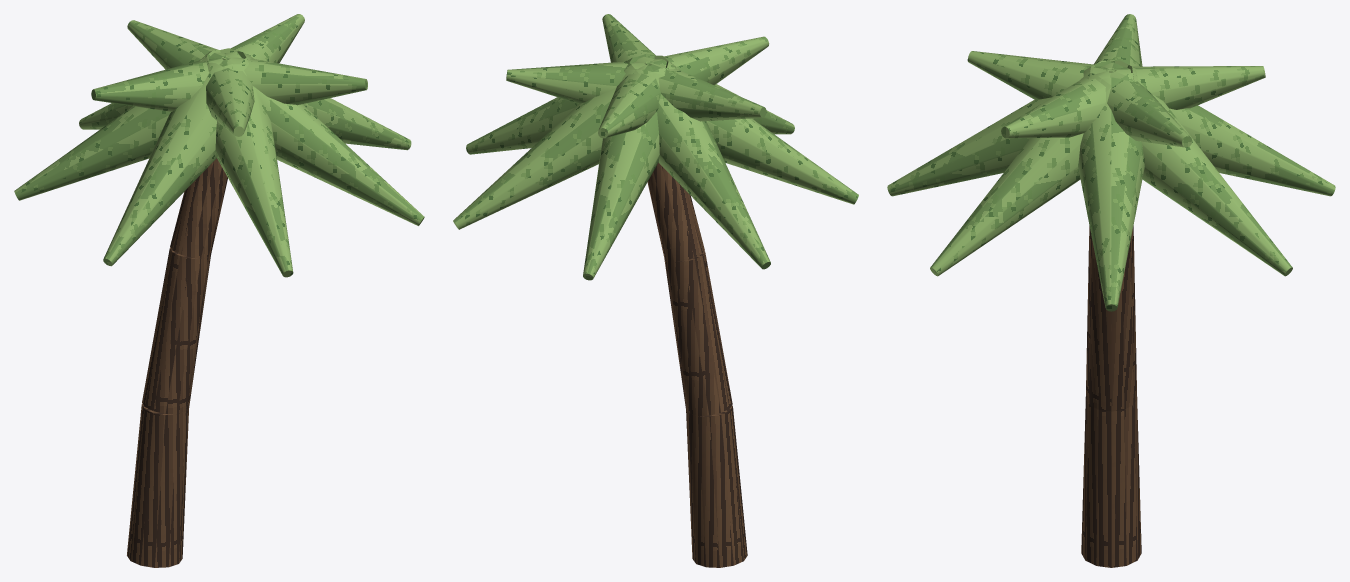
Rendered from spec_palm_tree_2.glb.
The picture shows the model from 3 angles, left to right: view 1: azimuth 30°, elevation 25°; view 2: azimuth 150°, elevation 25°; view 3: azimuth 270°, elevation 25°; orthographic projection. The views are drawn at different scales.
Parts seen in each view (by area): view 1: spec_palm_tree_2; view 2: spec_palm_tree_2; view 3: spec_palm_tree_2.
Boxes of the visible parts, x1,y1,x2,y2 form: spec_palm_tree_2: [14, 14, 424, 567]; spec_palm_tree_2: [453, 14, 858, 567]; spec_palm_tree_2: [887, 14, 1335, 567].
Size of the model in its own units: 2.89 by 3.83 by 2.96.
Materials: 2 (2 with a texture image).
